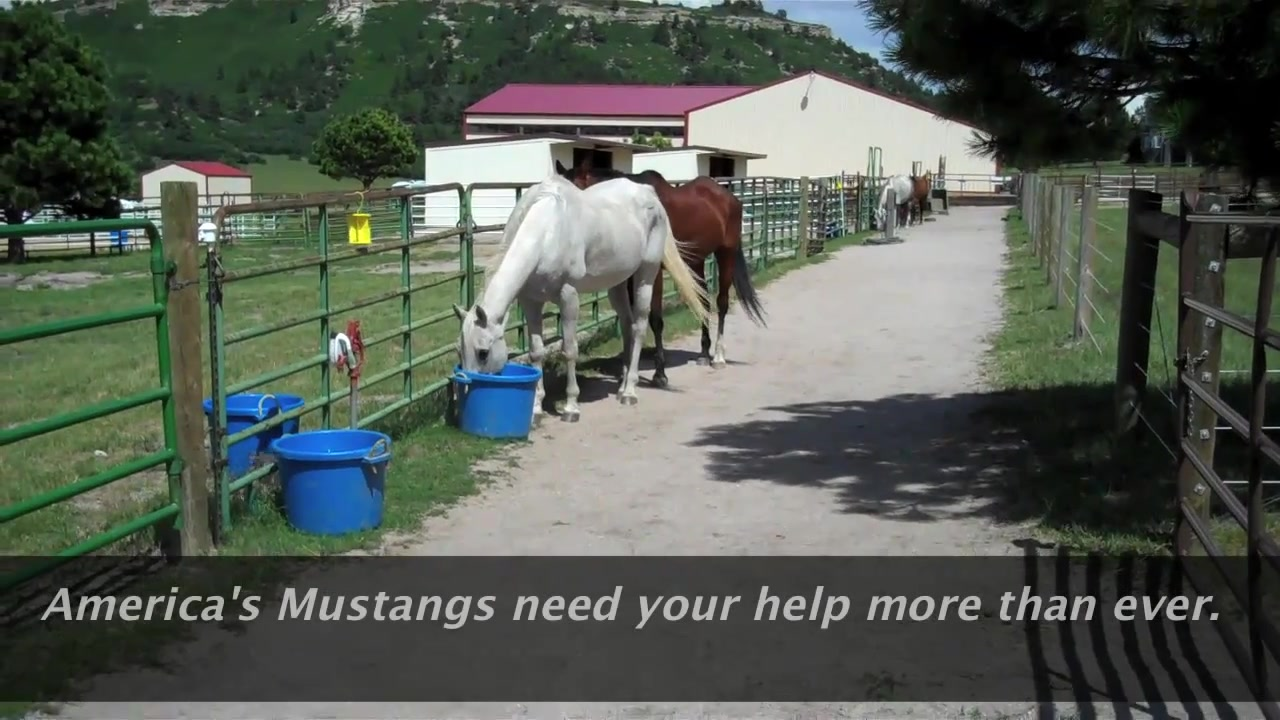horse: (452, 176, 719, 422), (615, 170, 768, 391), (871, 173, 920, 231), (910, 171, 936, 227)
